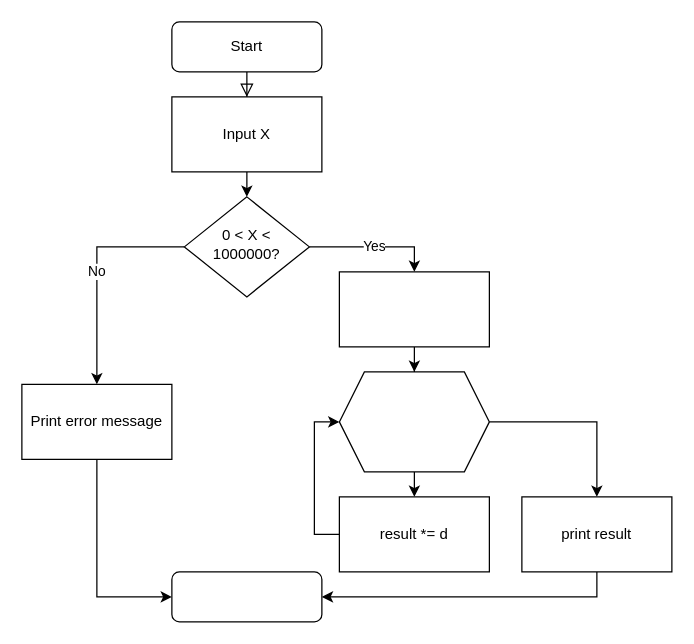
Image size: 694x644. Some labels were removed from this diagram. Each missing label, with the centre of its shape:
"d = digits[0] ... digits[len-1]" goes at (413,421).
"End" goes at (246,596).
"int result = 1 char[] digits = X.toCharArray() len = digits.length" goes at (413,309).
